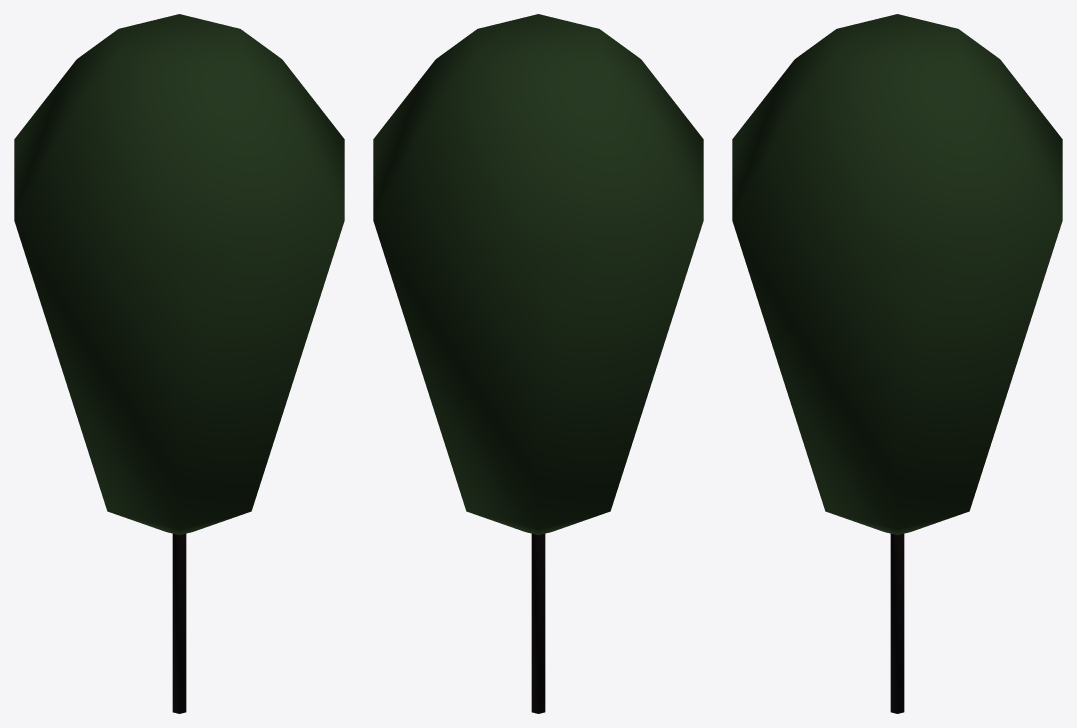
The model's file is PropsTree5.fbx.
3 views of the same model, side by side, from view 1: azimuth 30°, elevation 25°; view 2: azimuth 150°, elevation 25°; view 3: azimuth 270°, elevation 25° (orthographic).
Visible parts, largest first — view 1: PropsTree5; view 2: PropsTree5; view 3: PropsTree5.
Part boxes in pixels (x1,y1,x2,y2): PropsTree5: [14, 14, 344, 713]; PropsTree5: [373, 14, 703, 713]; PropsTree5: [732, 14, 1062, 713].
Size of the model in its own units: 4.81 by 9.27 by 4.17.
